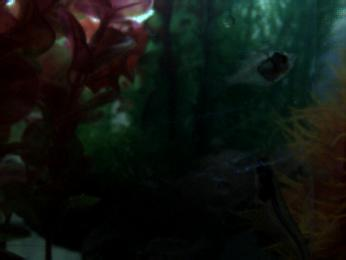X-ray fish: (219, 48, 296, 93)
glassfish: (247, 163, 317, 260)
